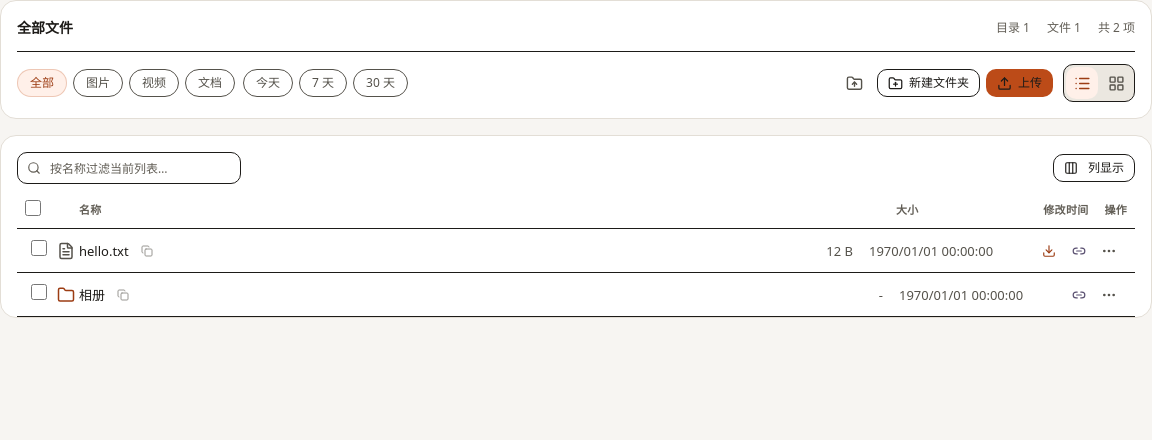
breadcrumb uses chevron separator with root label and highlights current level
The image size is (1152, 440).
Check: the button "hello.txt" is shown, box [79,240,129,260]
Double-click the button "相册" at (92, 294), box [79,284,105,304]
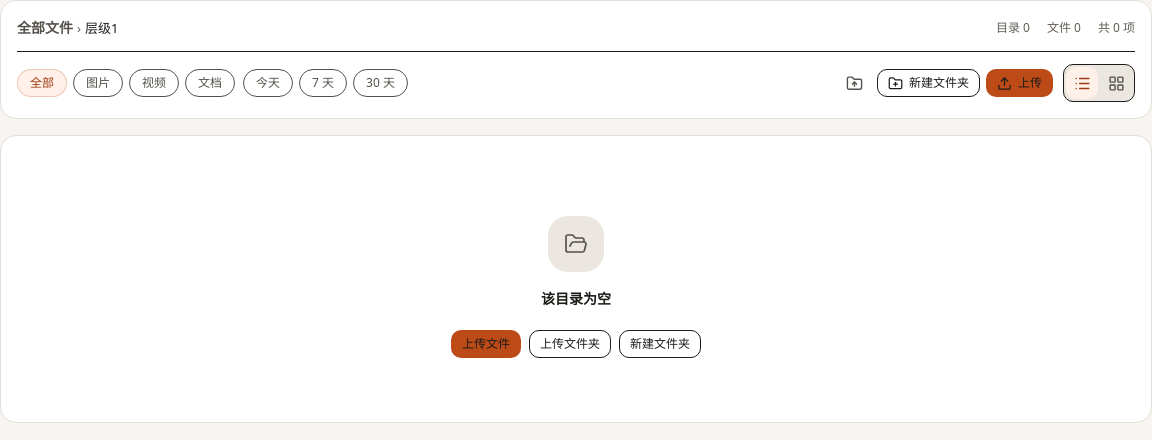
Check: the navigation bar named "面包屑" shows "全部文件", box [17,17,73,39]
Check: the link "层级1" is shown, box [85,18,118,38]
